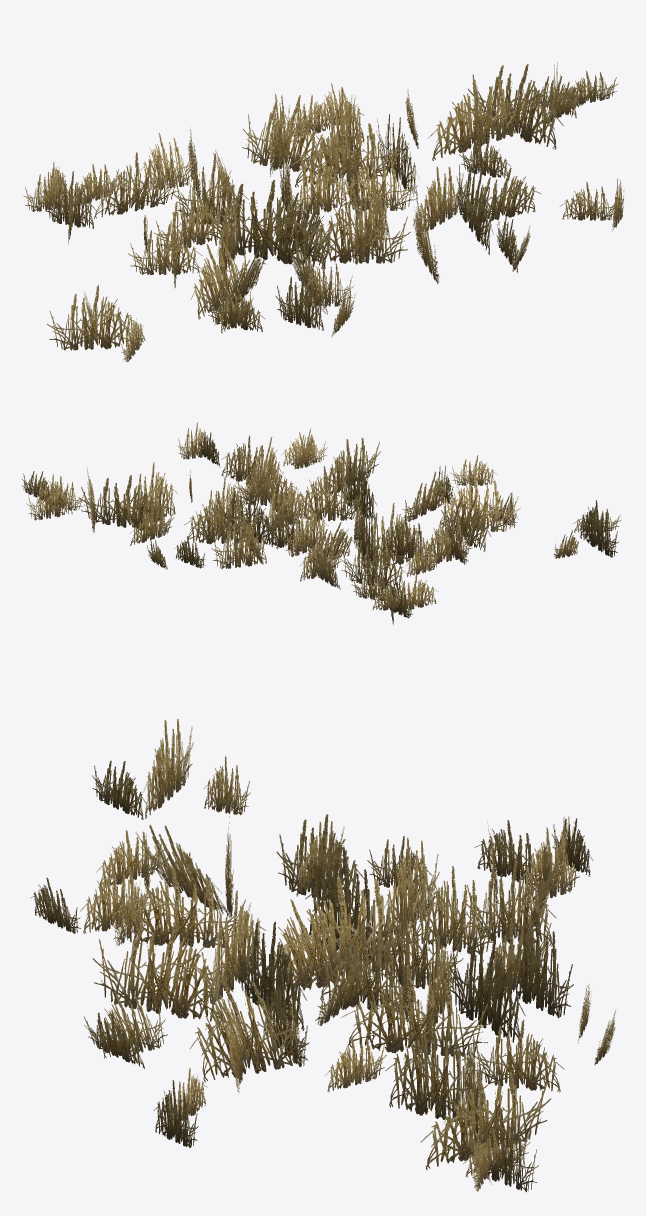
File: DN_grass03d.FBX
3 views of the same model, one above another, from view 1: azimuth 30°, elevation 25°; view 2: azimuth 150°, elevation 25°; view 3: azimuth 270°, elevation 25° (orthographic). The views are drawn at different scales.
Visible parts, largest first — view 1: DN_grass03d; view 2: DN_grass03d; view 3: DN_grass03d.
Part boxes in pixels (box(x1,y1,x2,y2)): DN_grass03d: box(23, 62, 624, 361); DN_grass03d: box(21, 422, 620, 625); DN_grass03d: box(30, 719, 615, 1192).
Size of the model in its own units: 267 by 46.48 by 157.
1 material, 1 textured.
